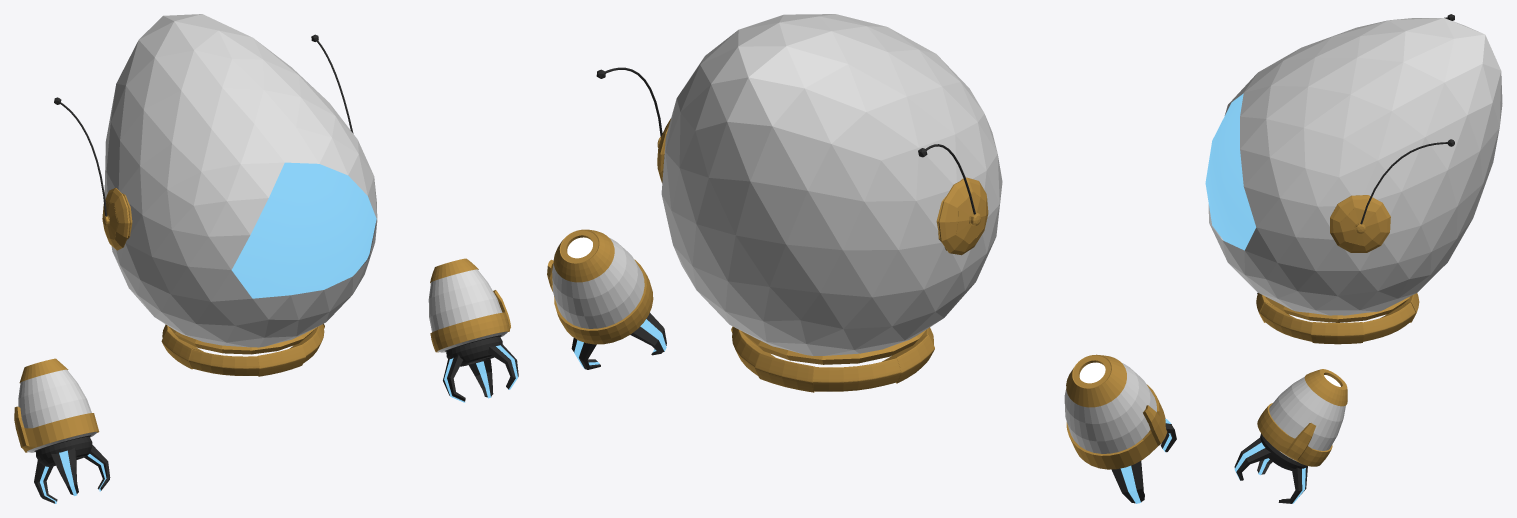
The model's file is pip.glb.
3 renders of one model, left to right at view 1: azimuth 30°, elevation 25°; view 2: azimuth 150°, elevation 25°; view 3: azimuth 270°, elevation 25°, orthographic. The views are drawn at different scales.
Visible parts, largest first — view 1: Icosphere, Screen, Cylinder.002, Cylinder.001, HoverRing, EarDiscL, HoverBase, Cube.002, Cube.006, Cube.005; view 2: Icosphere, Cylinder.002, Cylinder.001, HoverRing, EarDiscL, HoverBase, Cube.001, Cube.004; view 3: Icosphere, Cylinder.002, Screen, HoverRing, EarDiscR, HoverBase, Cube.006, Cube.005.
Part boxes in pixels (x1,y1,x2,y2): Icosphere: (104,14,377,347); Screen: (231,162,376,298); Cylinder.002: (428,258,510,366); Cylinder.001: (14,358,99,466); HoverRing: (161,324,324,376); EarDiscL: (102,188,132,250); HoverBase: (169,327,316,354); Cube.002: (51,447,78,495); Cube.006: (488,344,518,389); Cube.005: (469,359,493,398); Icosphere: (661,14,1002,355); Cylinder.002: (547,229,653,344); Cylinder.001: (1064,354,1167,469); HoverRing: (731,326,934,392); EarDiscL: (936,177,988,255); HoverBase: (741,330,925,364); Cube.001: (1111,461,1144,503); Cube.004: (630,312,666,355); Icosphere: (1208,18,1502,315); Cylinder.002: (1257,369,1347,470); Screen: (1205,93,1256,250); HoverRing: (1256,293,1419,344); EarDiscR: (1330,195,1390,252); HoverBase: (1265,296,1409,322); Cube.006: (1234,437,1270,480); Cube.005: (1278,466,1307,503).
Bounding box in the file's own units: 2.17 × 1.59 × 1.15.
